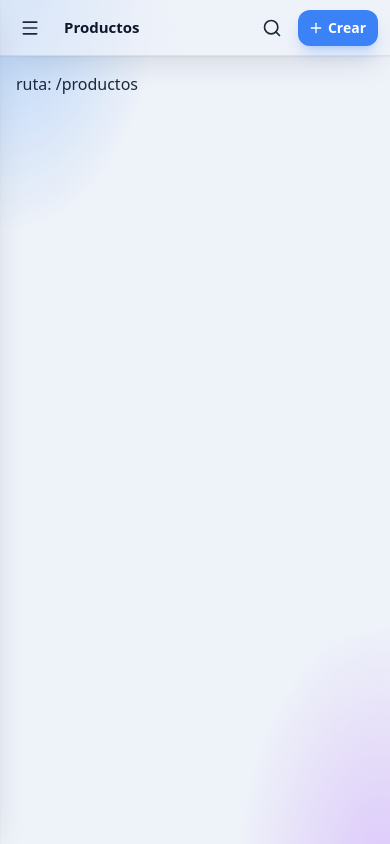
it: Layout › móvil: barra superior con menú, buscador y acción rápida de la vista
This screenshot has width=390, height=844.
Click the button named "Abrir menú" at (30, 28), box [8, 6, 52, 50]
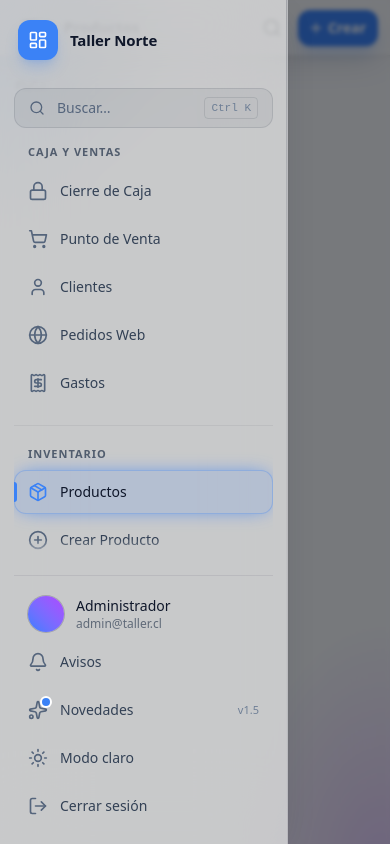
expect the button named "Abrir menú" is expanded: met, box [8, 6, 52, 50]
Press Escape
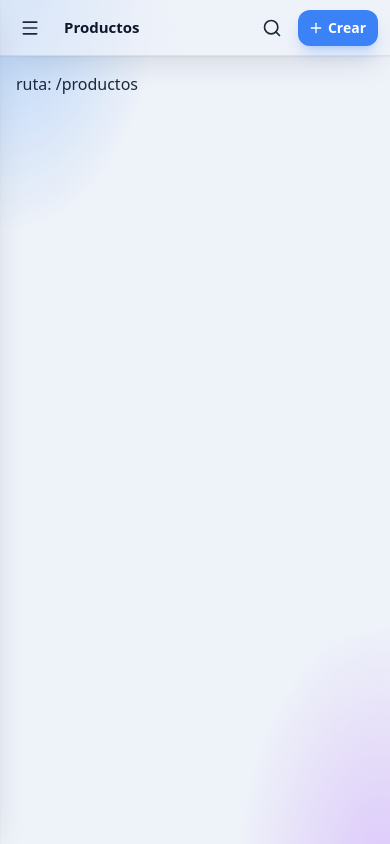
expect the button named "Abrir menú" is collapsed: met, box [8, 6, 52, 50]
